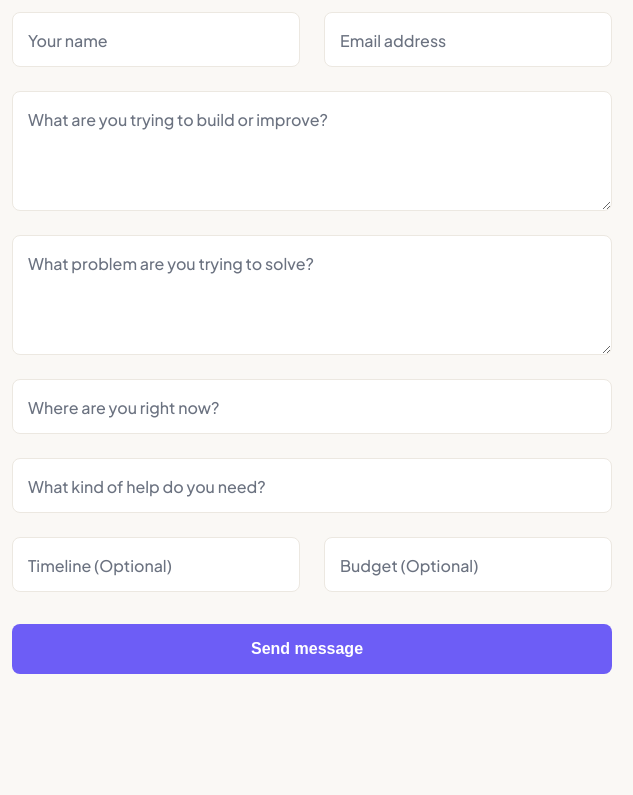
Scenario: ContactForm › shows unconfigured error when endpoint is false
The width and height of the screenshot is (633, 795).
Click the button "Send message". click: (312, 649)
box: [12,624,612,674]
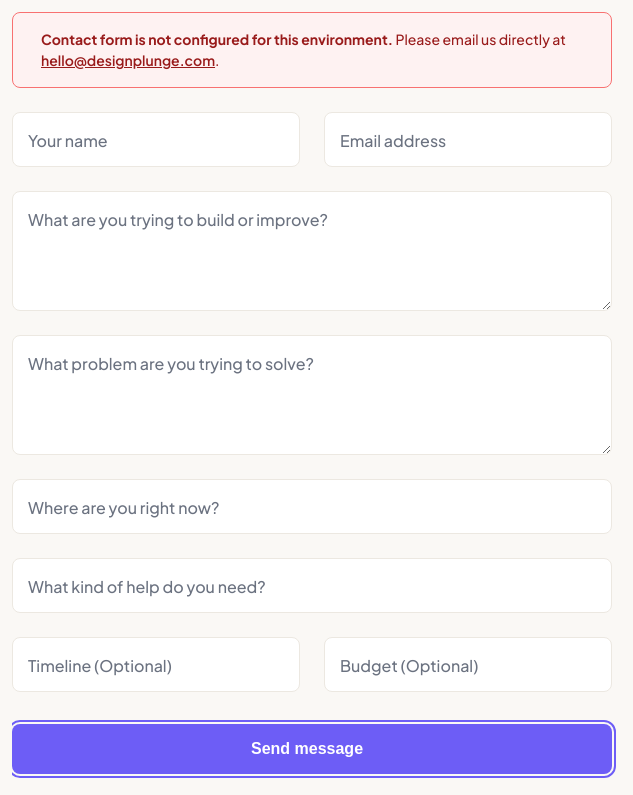
expect the text "Contact form is not configured for this environment." is shown: met, box [41,30,393,48]
